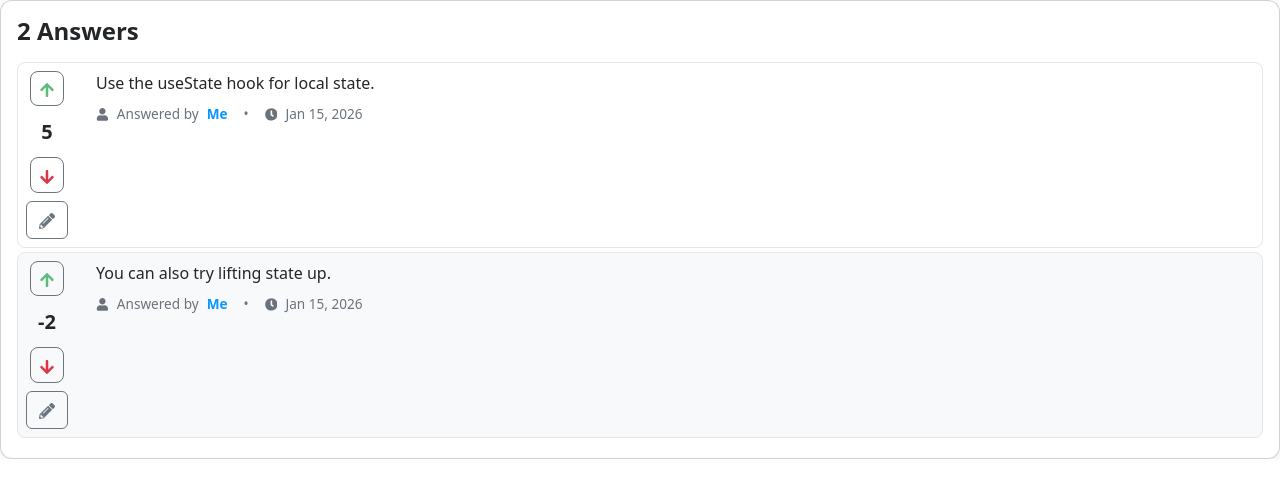
Test: AnswerList Component › Edit affordance › disables Save when the answer text is emptied
Click the button named "edit" below "Use the useState hook for local state." at (47, 220), box [26,201,68,239]
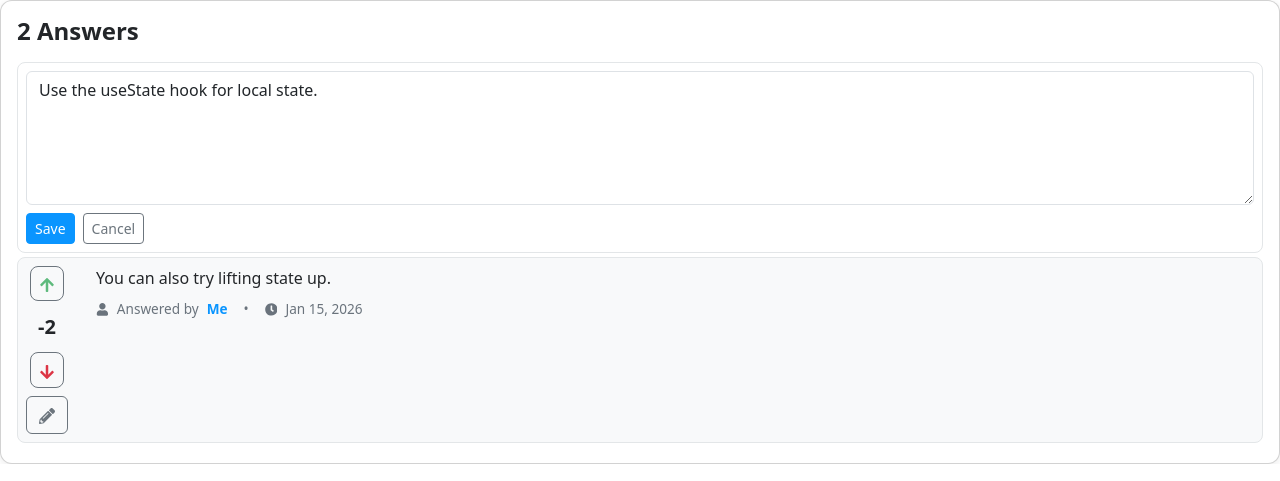
Clear the text box at (640, 138), box [26,71,1254,205]
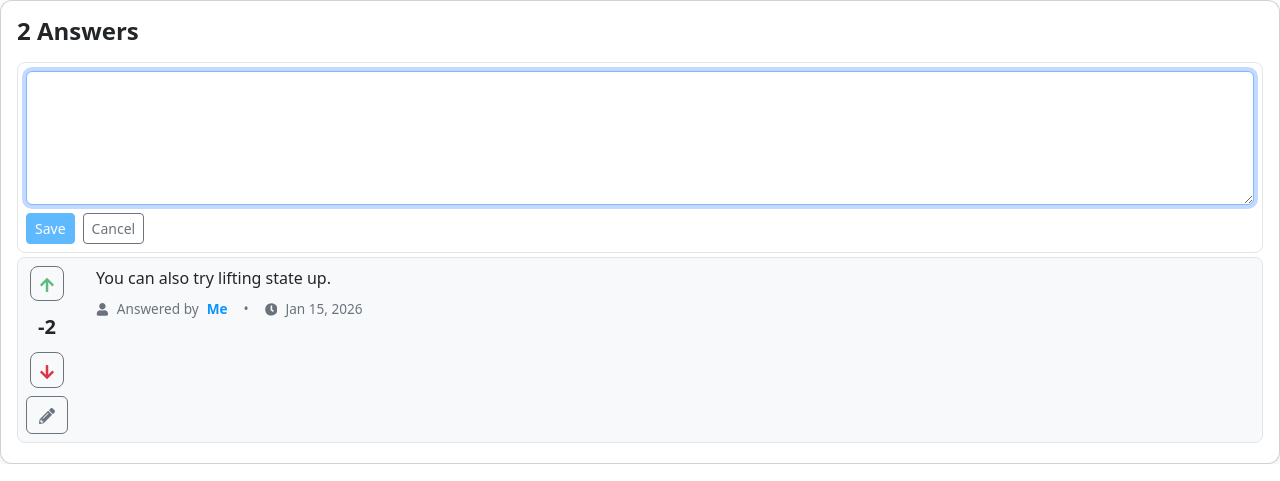
Now the button "Save" is disabled, box [26,213,75,244]
